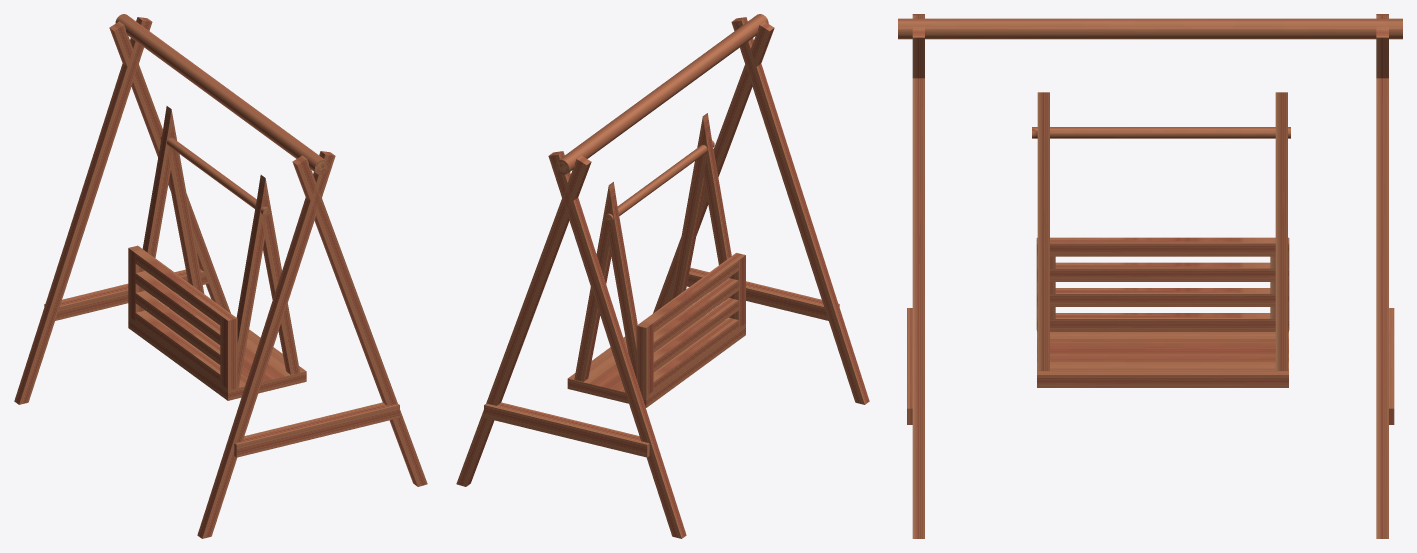
The model's file is swing.obj.
The picture shows the model from 3 angles, left to right: view 1: azimuth 30°, elevation 25°; view 2: azimuth 150°, elevation 25°; view 3: azimuth 270°, elevation 25°; orthographic projection. The views are drawn at different scales.
Visible parts, largest first — view 1: group62 Swing _Swing:pCube22, _Swing:pCube2 group62 Swing, group62 Swing _Swing:pCube21, group62 Swing _Swing:pCylinder1, modelPanel4ViewSelectedSet group62 Swing _Swing:pCube24, group62 Swing _Swing:pCube7, modelPanel4ViewSelectedSet group62 Swing _Swing:pCube6, group62 Swing _Swing:pCube10, group62 Swing _Swing:pCube20, group62 Swing _Swing:pCube19, group62 Swing pCube14, group62 Swing _Swing:pCube9 (+7 smaller); view 2: _Swing:pCube2 group62 Swing, group62 Swing _Swing:pCube22, group62 Swing _Swing:pCube7, group62 Swing _Swing:pCylinder1, modelPanel4ViewSelectedSet group62 Swing _Swing:pCube23, modelPanel4ViewSelectedSet group62 Swing _Swing:pCube6, group62 Swing _Swing:pCube21, group62 Swing _Swing:pCube19, group62 Swing _Swing:pCube9, group62 Swing _Swing:pCube10, group62 Swing pCube14, modelPanel4ViewSelectedSet group62 Swing _Swing:pCube24 (+7 smaller); view 3: modelPanel4ViewSelectedSet group62 Swing _Swing:pCube6, group62 Swing _Swing:pCylinder1, group62 Swing _Swing:pCube7, group62 Swing _Swing:pCube21, group62 Swing pCube14, group62 Swing pCube15, group62 Swing _Swing:pCube13, group62 Swing pCube13, group62 Swing _Swing:pCube10, group62 Swing _Swing:pCube19, group62 Swing _Swing:pCylinder2, modelPanel4ViewSelectedSet group62 Swing _Swing:pCube24 (+3 smaller).
Part boxes in pixels (<box>): group62 Swing _Swing:pCube22: <box>197,151,335,538</box>; _Swing:pCube2 group62 Swing: <box>14,17,152,404</box>; group62 Swing _Swing:pCube21: <box>292,155,427,486</box>; group62 Swing _Swing:pCylinder1: <box>115,14,328,174</box>; modelPanel4ViewSelectedSet group62 Swing _Swing:pCube24: <box>234,402,399,457</box>; group62 Swing _Swing:pCube7: <box>109,21,230,313</box>; modelPanel4ViewSelectedSet group62 Swing _Swing:pCube6: <box>128,308,306,400</box>; group62 Swing _Swing:pCube10: <box>163,106,204,293</box>; group62 Swing _Swing:pCube20: <box>236,179,266,387</box>; group62 Swing _Swing:pCube19: <box>257,175,299,374</box>; group62 Swing pCube14: <box>128,245,237,324</box>; group62 Swing _Swing:pCube9: <box>142,111,173,257</box>; _Swing:pCube2 group62 Swing: <box>548,151,686,538</box>; group62 Swing _Swing:pCube22: <box>731,17,869,404</box>; group62 Swing _Swing:pCube7: <box>456,155,591,486</box>; group62 Swing _Swing:pCylinder1: <box>555,14,768,174</box>; modelPanel4ViewSelectedSet group62 Swing _Swing:pCube23: <box>484,402,649,457</box>; modelPanel4ViewSelectedSet group62 Swing _Swing:pCube6: <box>567,325,745,407</box>; group62 Swing _Swing:pCube21: <box>653,21,774,313</box>; group62 Swing _Swing:pCube19: <box>670,113,710,300</box>; group62 Swing _Swing:pCube9: <box>607,188,637,378</box>; group62 Swing _Swing:pCube10: <box>574,182,616,381</box>; group62 Swing pCube14: <box>637,253,745,332</box>; modelPanel4ViewSelectedSet group62 Swing _Swing:pCube24: <box>687,267,839,320</box>; modelPanel4ViewSelectedSet group62 Swing _Swing:pCube6: <box>1037,332,1288,387</box>; group62 Swing _Swing:pCylinder1: <box>898,18,1402,39</box>; group62 Swing _Swing:pCube7: <box>1376,14,1388,538</box>; group62 Swing _Swing:pCube21: <box>912,14,924,538</box>; group62 Swing pCube14: <box>1037,237,1288,256</box>; group62 Swing pCube15: <box>1037,262,1288,281</box>; group62 Swing _Swing:pCube13: <box>1037,313,1288,331</box>; group62 Swing pCube13: <box>1037,288,1288,306</box>; group62 Swing _Swing:pCube10: <box>1275,92,1287,370</box>; group62 Swing _Swing:pCube19: <box>1037,92,1049,370</box>; group62 Swing _Swing:pCylinder2: <box>1032,127,1290,138</box>; modelPanel4ViewSelectedSet group62 Swing _Swing:pCube24: <box>907,308,912,424</box>.
Bounding box in the file's own units: 143 × 216 × 219.
